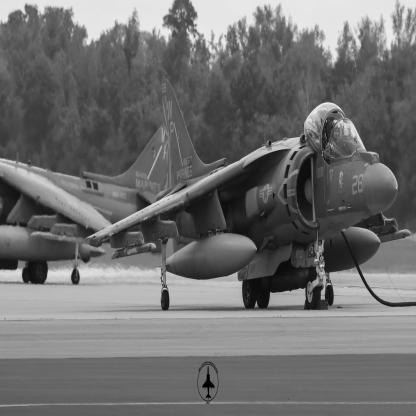AV8B: (86, 77, 412, 312), (1, 111, 185, 286)
